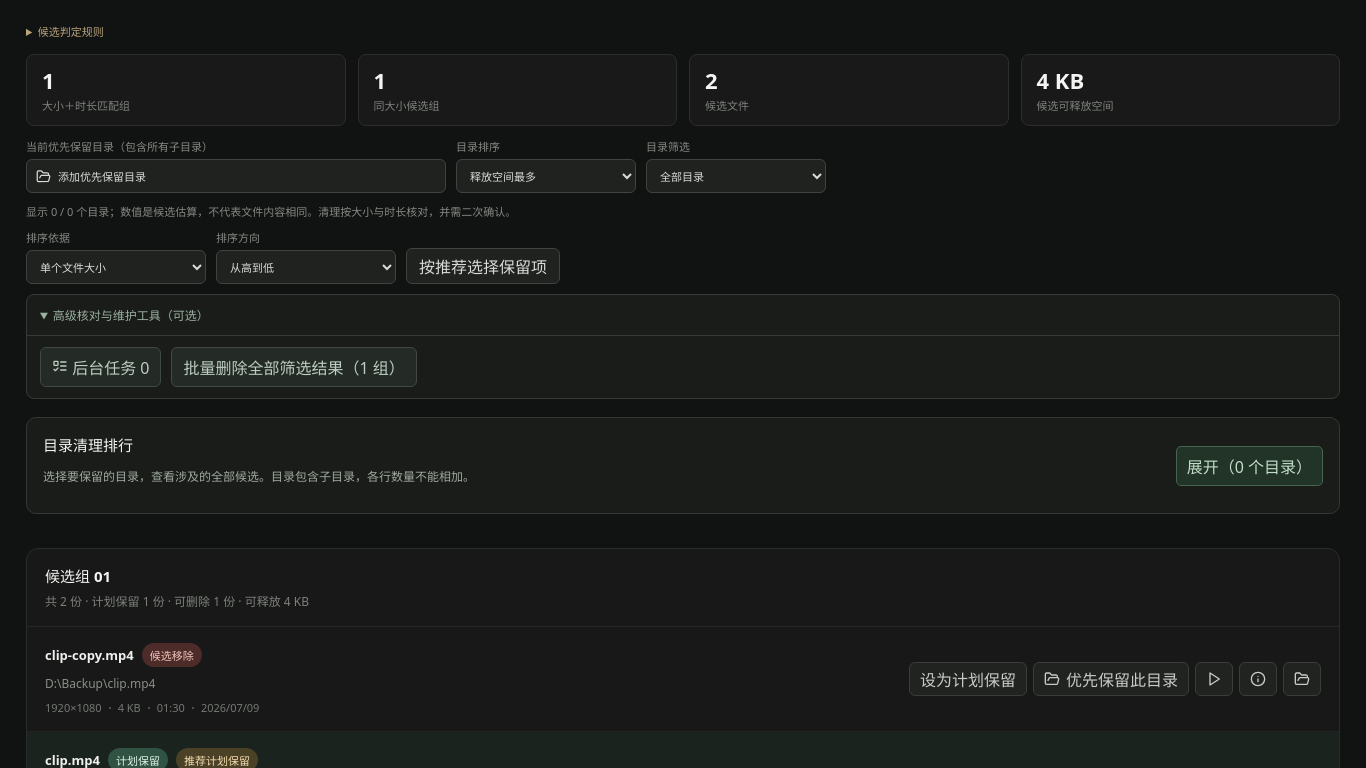
Test case: DuplicateGroupsPage staged safety flow › reads the submitted job by identity even when it leaves the first task page
Step 1. Click the button "批量删除全部筛选结果（1 组）" → [294, 367], box [172, 347, 417, 387]
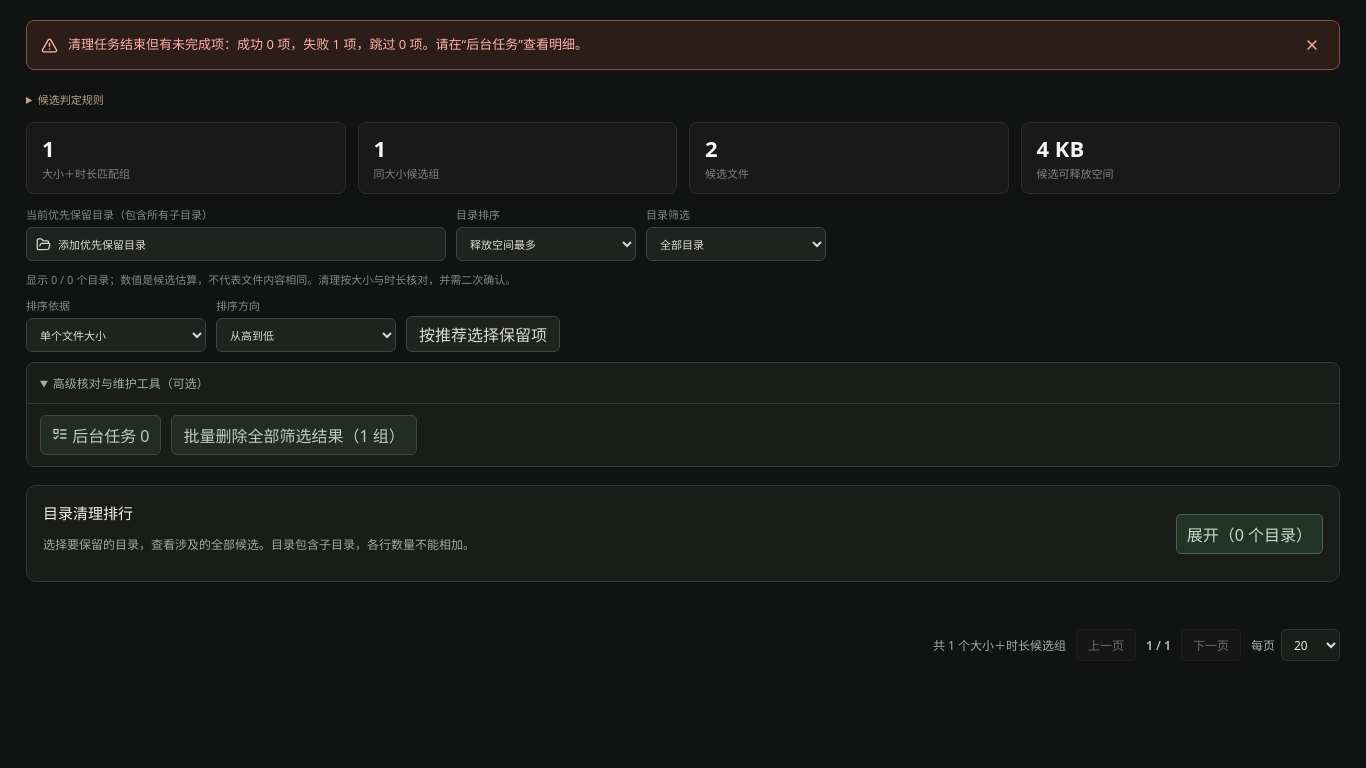
Check: the message shows "失败 1 项", box [68, 35, 588, 53]
